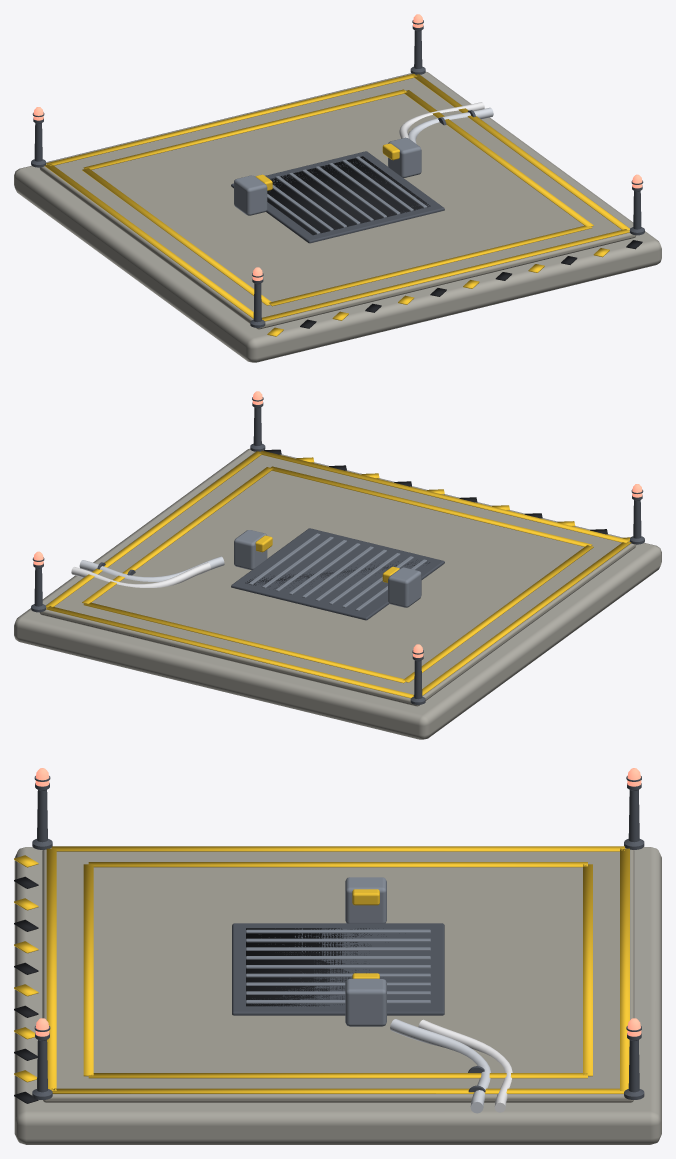
Rendered from LaunchPad.fbx.
The picture shows the model from 3 angles, top to bottom: view 1: azimuth 30°, elevation 25°; view 2: azimuth 150°, elevation 25°; view 3: azimuth 270°, elevation 25°; orthographic projection. The views are drawn at different scales.
Parts seen in each view (by area): view 1: Body__StoneLight, Body__Concrete, Body__Yellow, Body__Black, Body__Steel, Body__MetalDark, Body__Chrome; view 2: Body__StoneLight, Body__Concrete, Body__Yellow, Body__MetalDark, Body__Steel, Body__White, Body__Chrome, Body__Black; view 3: Body__StoneLight, Body__Concrete, Body__Yellow, Body__MetalDark, Body__Steel, Body__Black, Body__Chrome, Body__White.
Part boxes in pixels (x1,y1,x2,y2): Body__StoneLight: [39, 75, 636, 329]; Body__Concrete: [14, 71, 661, 362]; Body__Yellow: [44, 73, 629, 336]; Body__Black: [267, 156, 642, 328]; Body__Steel: [234, 137, 426, 234]; Body__MetalDark: [31, 20, 644, 327]; Body__Chrome: [408, 107, 493, 143]; Body__StoneLight: [39, 452, 636, 706]; Body__Concrete: [14, 448, 661, 739]; Body__Yellow: [46, 450, 631, 698]; Body__MetalDark: [31, 397, 644, 704]; Body__Steel: [234, 530, 426, 611]; Body__White: [71, 562, 210, 587]; Body__Chrome: [79, 556, 224, 581]; Body__Black: [245, 449, 607, 586]; Body__StoneLight: [42, 848, 634, 1102]; Body__Concrete: [14, 847, 661, 1144]; Body__Yellow: [14, 846, 629, 1093]; Body__MetalDark: [32, 776, 644, 1099]; Body__Steel: [246, 877, 430, 1026]; Body__Black: [14, 876, 386, 1103]; Body__Chrome: [390, 1019, 490, 1113]; Body__White: [418, 1019, 512, 1112].
Size of the model in its own units: 14 by 3.34 by 14.02.
